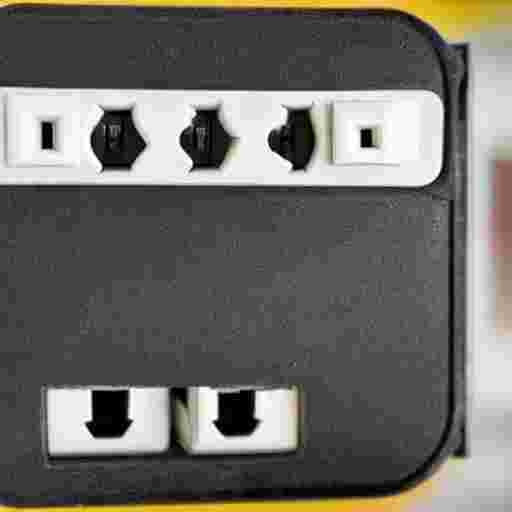power outlet: (0, 5, 466, 499)
